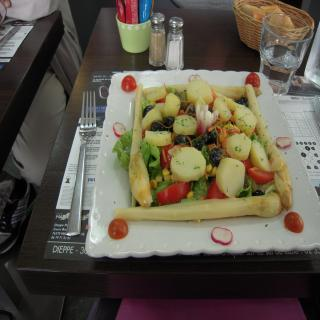Salad: (108, 76, 303, 247)
